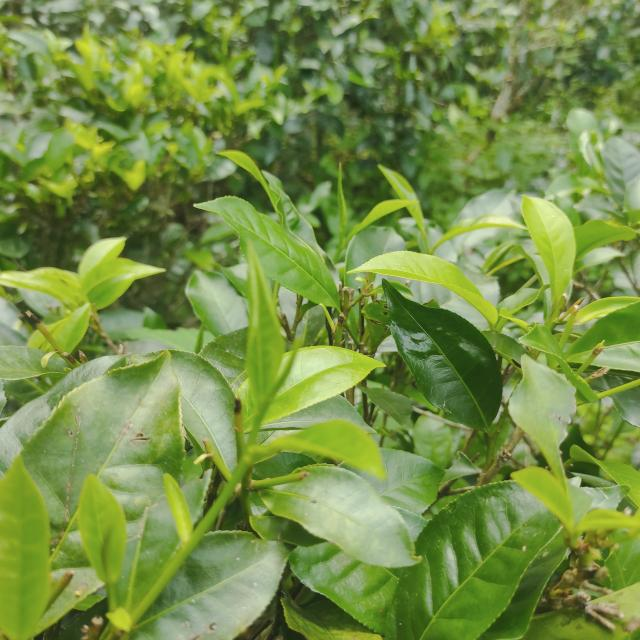unopened_leaf: (249, 328, 306, 426), (331, 155, 355, 240), (188, 309, 216, 355)
